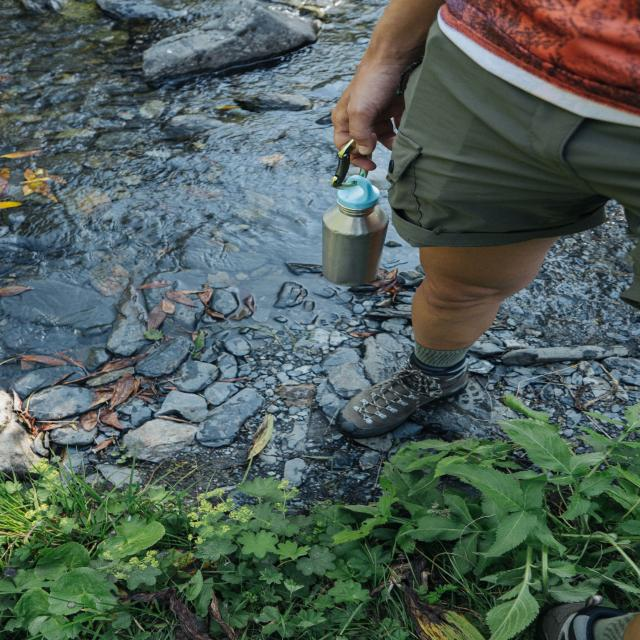Bottle: (323, 176, 388, 286)
